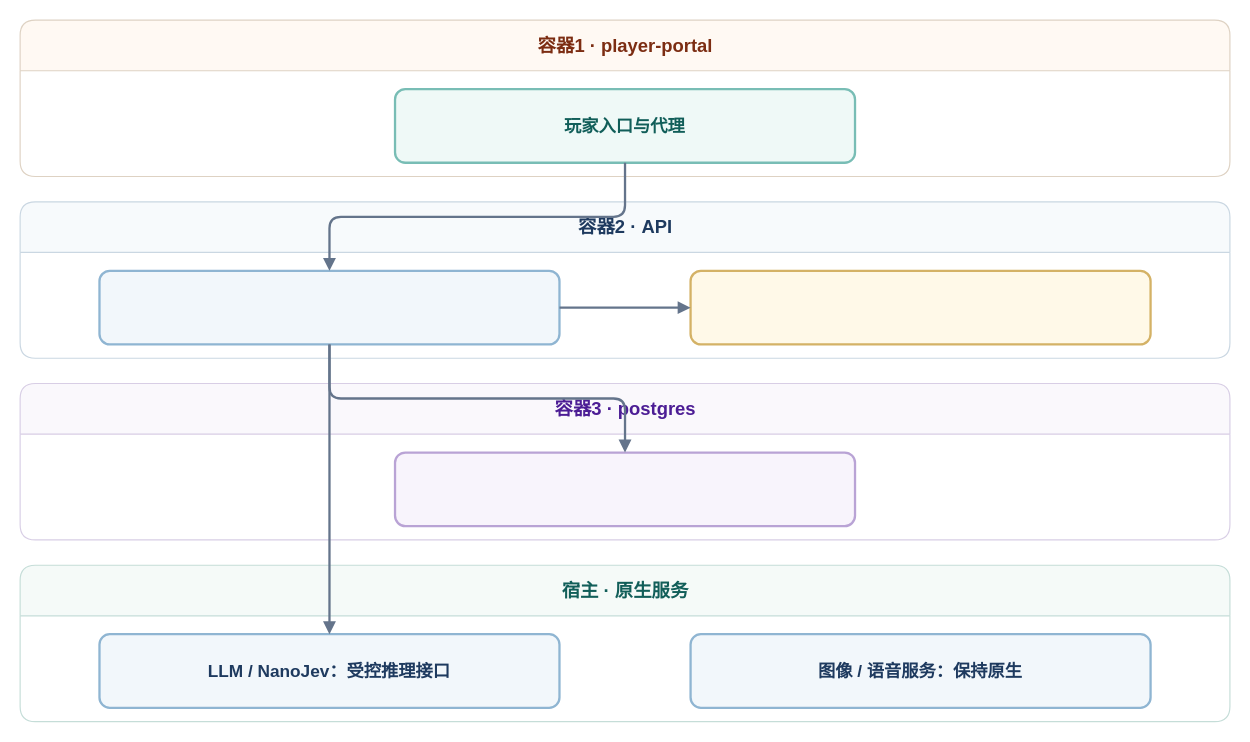
Some shapes in this 1250 by 742 pixel diagram are drawn without their labels. Here are the shapes that lost their labels. From the top down, the centre of each, then its label:
At point (329, 307): "Python / FastAPI：设计与游戏入口".
At point (920, 307): "Node + Pi：仅设计时编排".
At point (624, 489): "PostgreSQL + pgvector".
